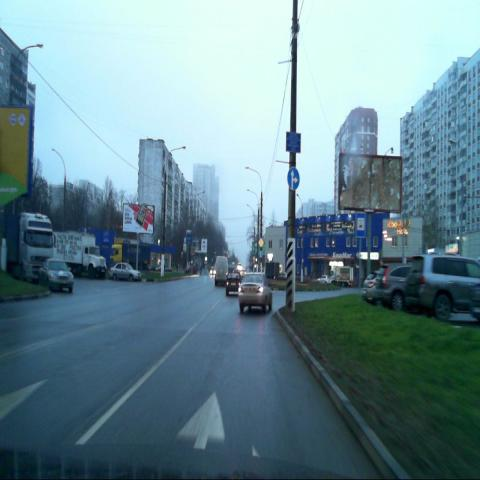5_18: (356, 212, 366, 238)
